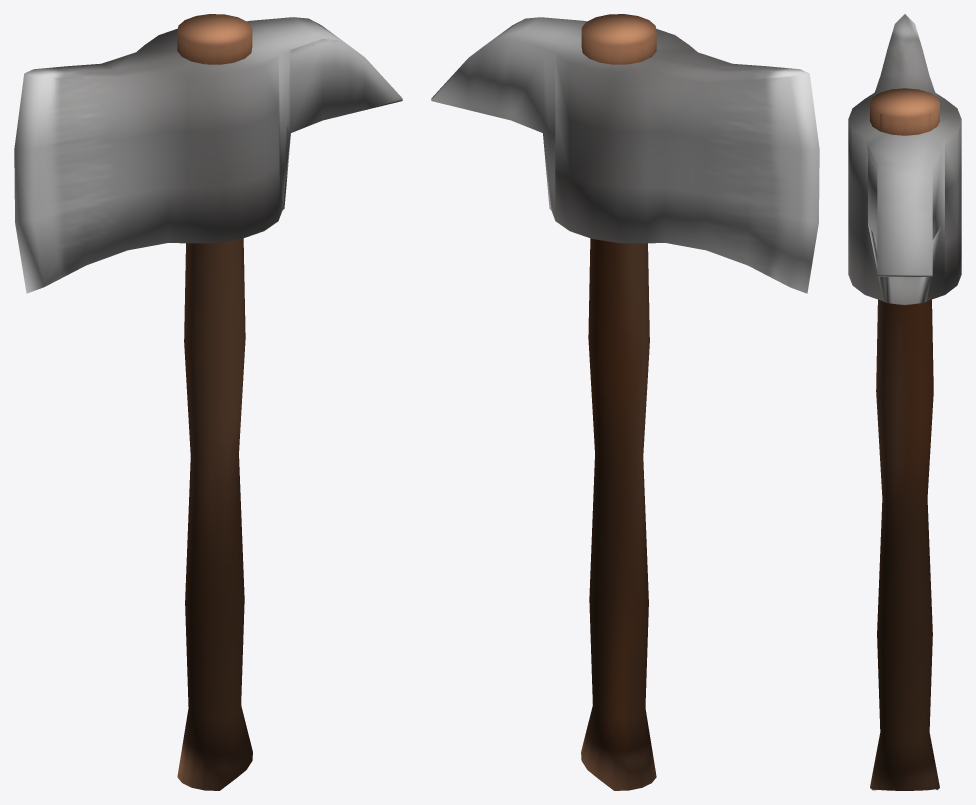
Rendered from Axe.fbx.
3 renders of one model, left to right at view 1: azimuth 30°, elevation 25°; view 2: azimuth 150°, elevation 25°; view 3: azimuth 270°, elevation 25°, orthographic. The views are drawn at different scales.
Parts seen in each view (by area): view 1: Axe; view 2: Axe; view 3: Axe.
Boxes of the visible parts, x1,y1,x2,y2 form: Axe: (14,14,402,790); Axe: (431,14,819,790); Axe: (848,14,961,790).
Size of the model in its own units: 69.37 by 133 by 19.64.
